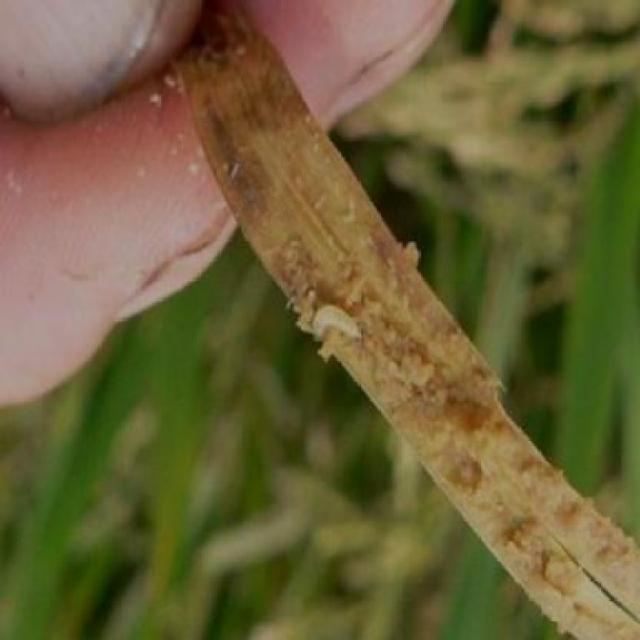whorl-maggot: (312, 297, 371, 354)
